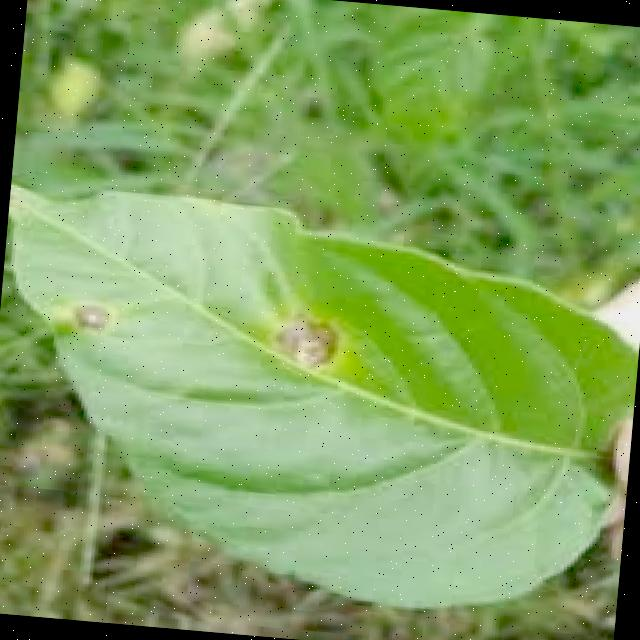leaf spot: (0, 131, 640, 635)
